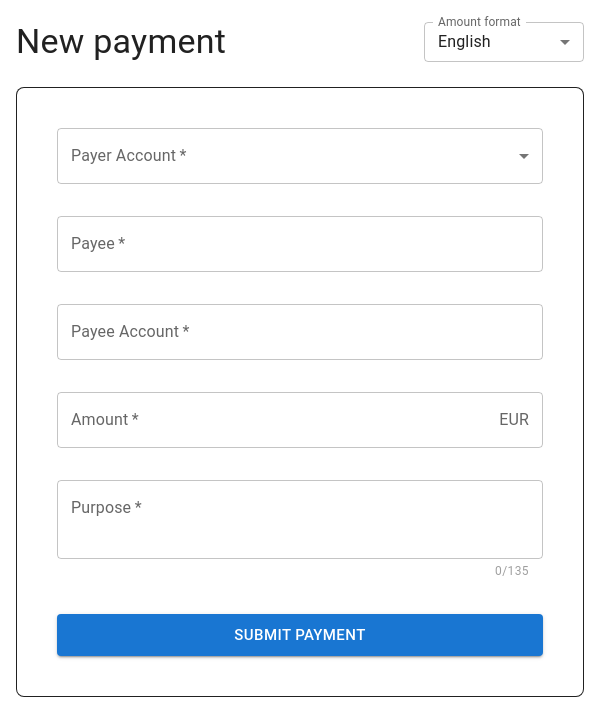
Scenario: App › formats amounts using the selected language
Type "1000.01" into the field labelled "Amount *" at (274, 420), box [57,392,491,448]
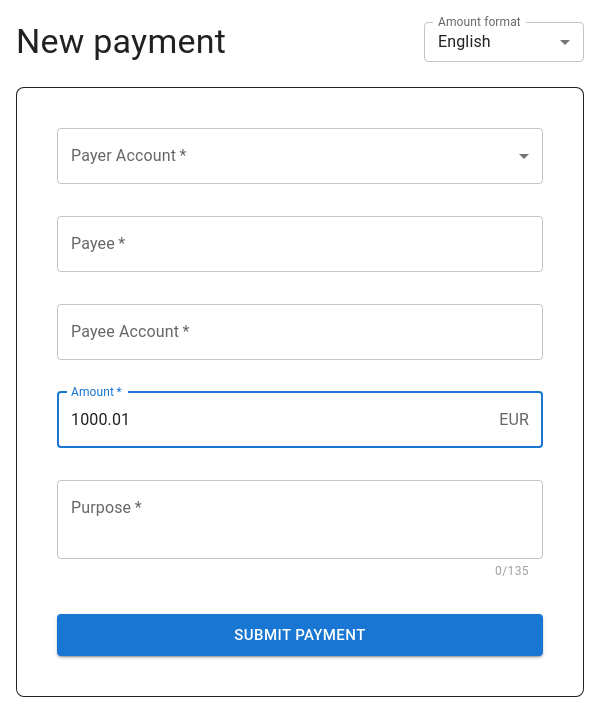
Press Tab
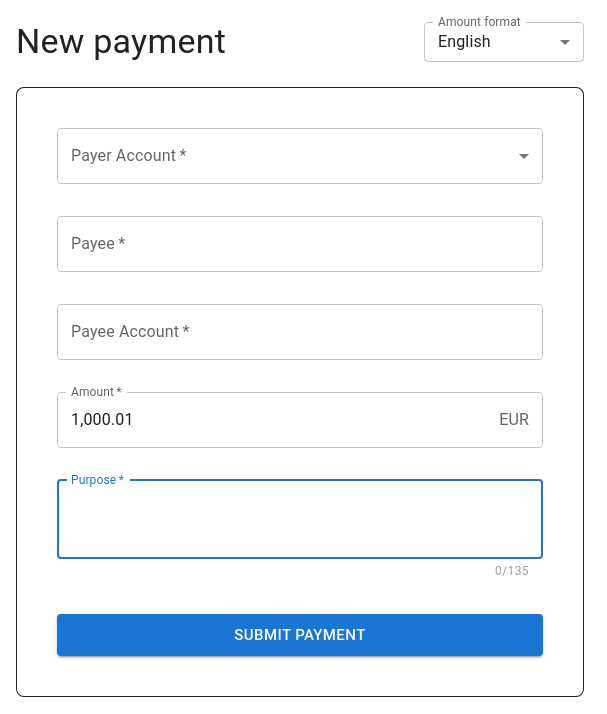
Expected: the field labelled "Amount *" holds "1,000.01", [57,392,491,448]
Click the dropdown named "amount format" at (464, 42), box [438,32,491,52]
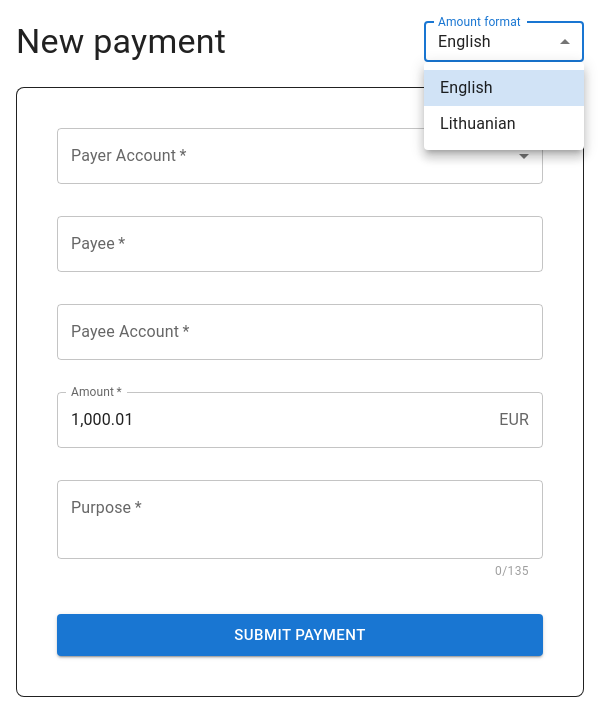
Click the option "Lithuanian" at (478, 124), box [440,114,516,133]
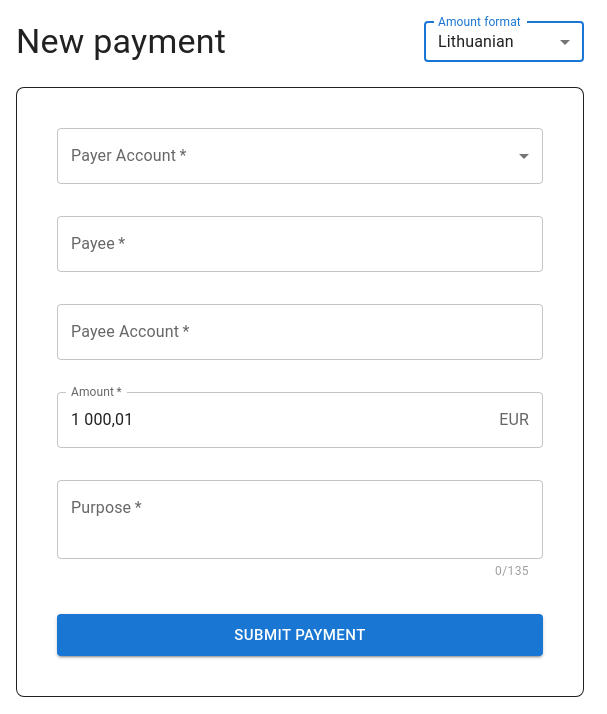
Click the dropdown named "payer account" at (300, 156), box [57,128,543,184]
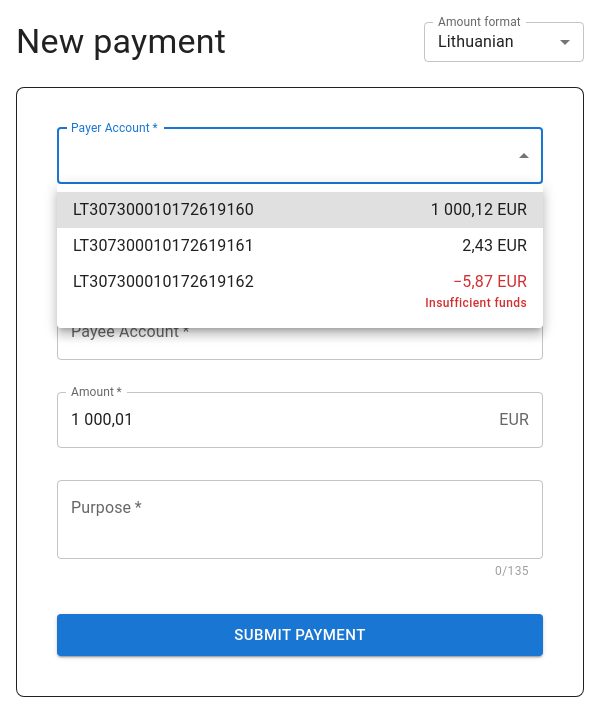
Expected: the option "LT307300010172619160 1 000,12 EUR" is shown, [57,192,543,228]
